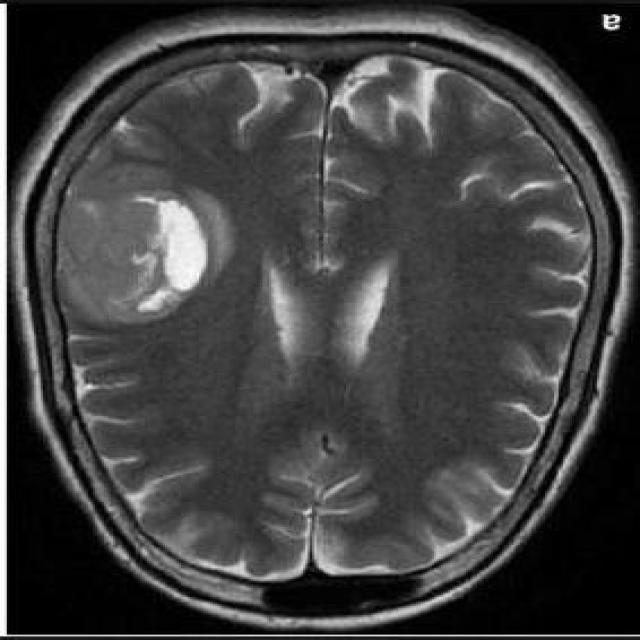Tumor-Cell: (51, 152, 225, 340)
